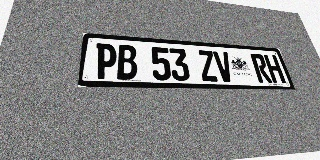3: (169, 48, 190, 81)
5: (151, 47, 172, 81)
B: (117, 44, 137, 80)
H: (263, 54, 286, 83)
P: (94, 43, 117, 79)
R: (250, 53, 273, 83)
V: (213, 51, 235, 82)
Z: (197, 50, 219, 82)
